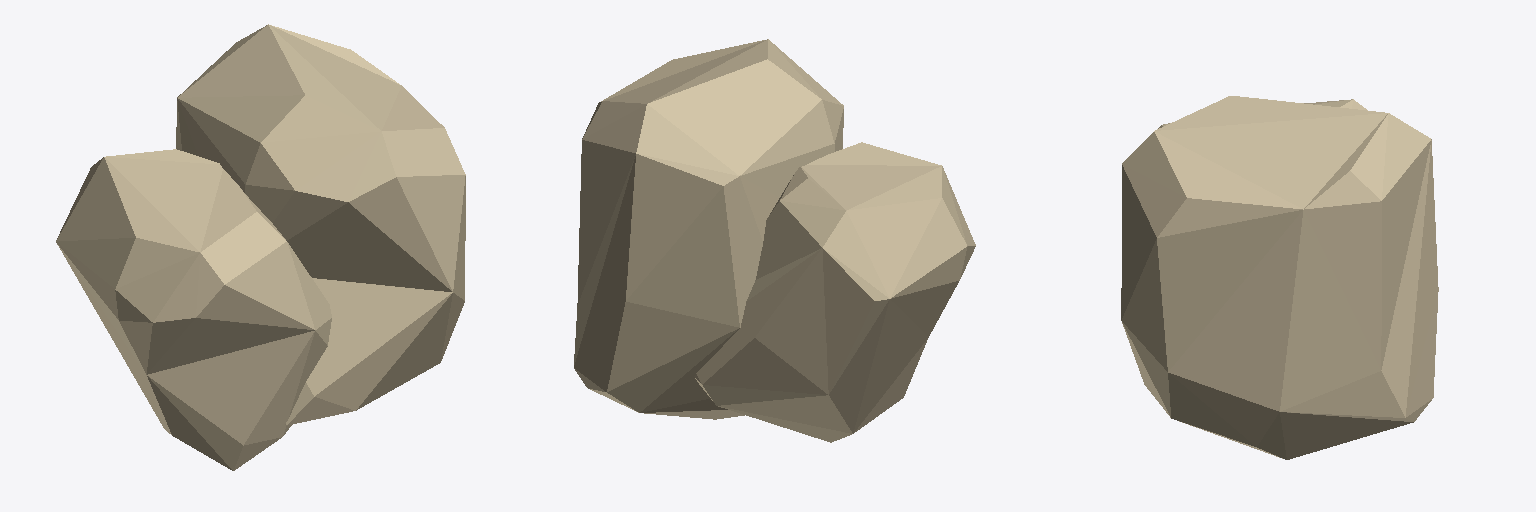
3 views of the same model, side by side, from view 1: azimuth 30°, elevation 25°; view 2: azimuth 150°, elevation 25°; view 3: azimuth 270°, elevation 25° (orthographic).
Visible parts, largest first — view 1: 左上腕; view 2: 左上腕; view 3: 左上腕.
Boxes of the visible parts, x1,y1,x2,y2 form: 左上腕: [56, 24, 465, 470]; 左上腕: [574, 39, 975, 442]; 左上腕: [1121, 96, 1438, 459].
Size of the model in its own units: 0.9807 by 0.9668 by 0.7913.
Materials: 1 (1 with a texture image).